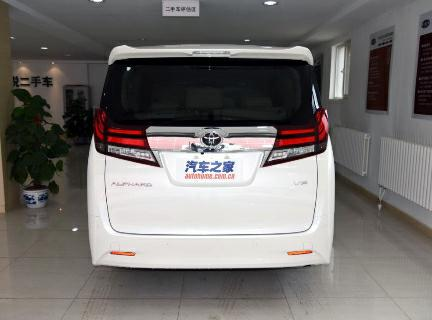丰田-埃尔法: (78, 43, 343, 280)
